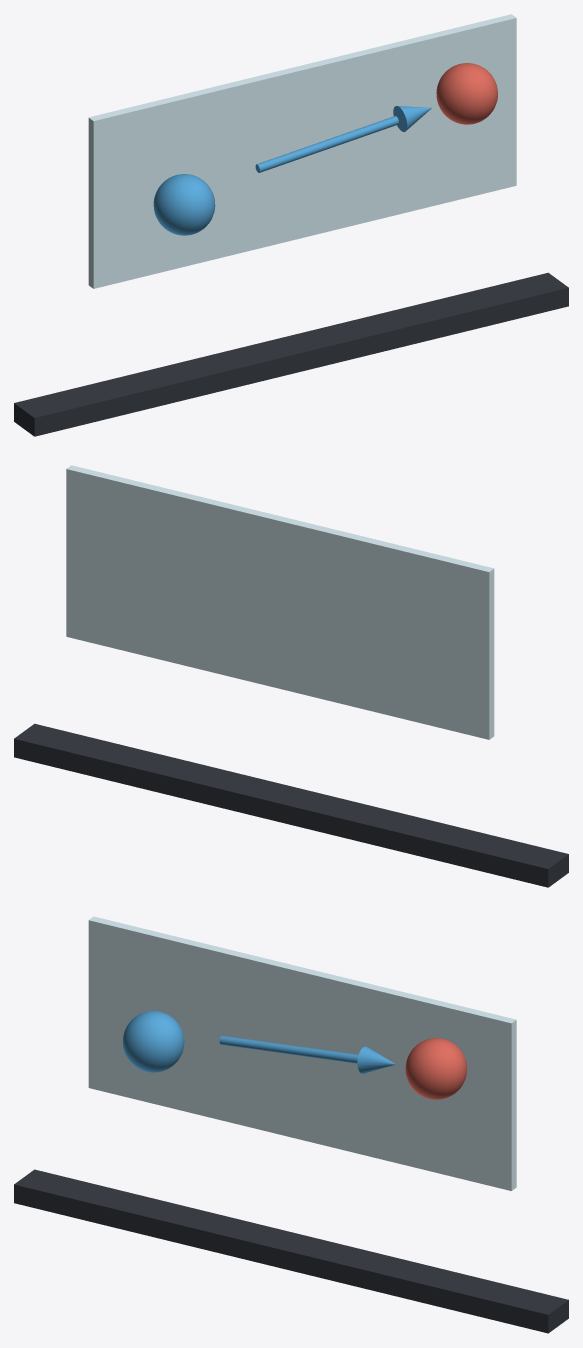
The model's file is space-cosmology-expansion.glb.
3 views of the same model, one above another, from view 1: azimuth 30°, elevation 25°; view 2: azimuth 150°, elevation 25°; view 3: azimuth 330°, elevation 25° (orthographic).
Visible parts, largest first — view 1: expanding-space-grid, cosmology-bench, far-galaxy-marker, near-galaxy-marker, space-between-stretches-shaft, space-between-stretches-head; view 2: expanding-space-grid, cosmology-bench; view 3: expanding-space-grid, cosmology-bench, far-galaxy-marker, near-galaxy-marker, space-between-stretches-shaft, space-between-stretches-head.
Boxes of the visible parts, x1,y1,x2,y2 form: expanding-space-grid: [88, 14, 516, 288]; cosmology-bench: [14, 272, 568, 436]; far-galaxy-marker: [436, 63, 497, 124]; near-galaxy-marker: [153, 174, 215, 235]; space-between-stretches-shaft: [255, 116, 398, 172]; space-between-stretches-head: [393, 106, 431, 131]; expanding-space-grid: [66, 465, 494, 739]; cosmology-bench: [14, 723, 568, 887]; expanding-space-grid: [88, 916, 516, 1190]; cosmology-bench: [14, 1169, 568, 1333]; far-galaxy-marker: [405, 1038, 466, 1099]; near-galaxy-marker: [122, 1011, 184, 1072]; space-between-stretches-shaft: [219, 1036, 358, 1063]; space-between-stretches-head: [357, 1046, 395, 1073].
Size of what is drawn, in the model's own units: 2.4 by 1.26 by 0.32.
